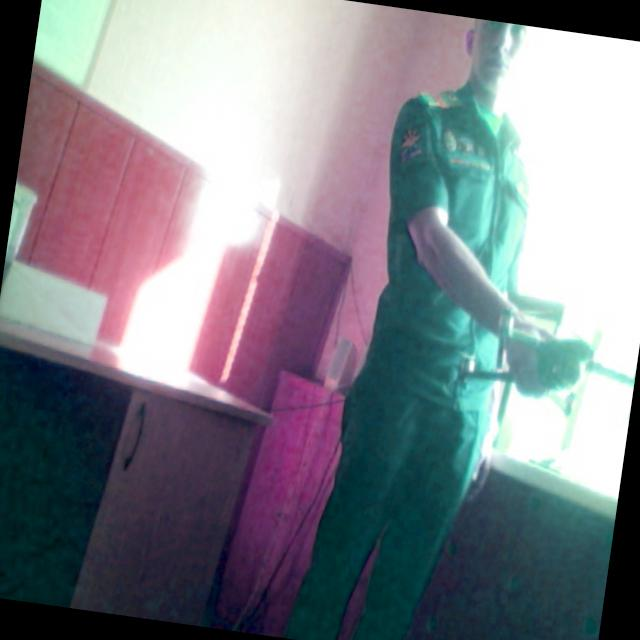drone: (444, 284, 640, 443)
